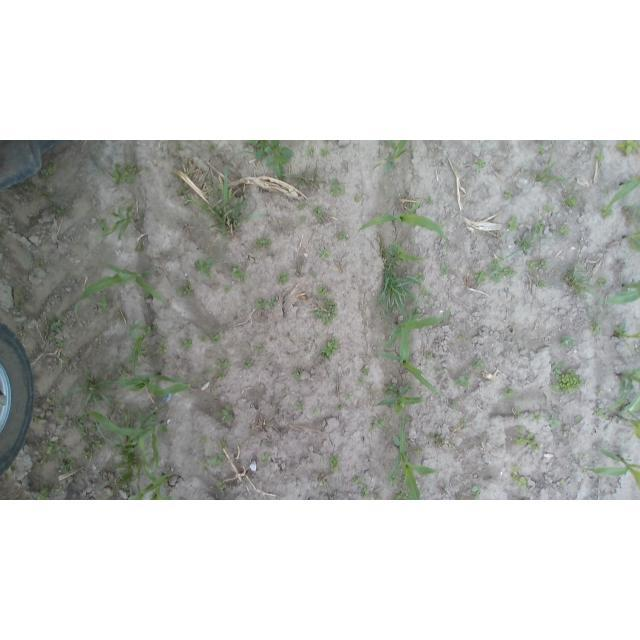Maize: (72, 261, 177, 319), (90, 405, 170, 470), (378, 316, 442, 397), (357, 202, 451, 245), (389, 417, 436, 500), (378, 306, 454, 348), (578, 444, 640, 494), (97, 370, 194, 399), (91, 201, 146, 244), (123, 463, 180, 500), (377, 384, 423, 417), (371, 140, 411, 172), (613, 371, 640, 414), (606, 278, 640, 311), (607, 176, 640, 208), (612, 403, 640, 437), (612, 325, 640, 355), (389, 240, 423, 263), (621, 215, 640, 255)
Weeds: (180, 165, 265, 234), (379, 242, 428, 319), (108, 436, 143, 498), (530, 140, 571, 192), (249, 140, 295, 180), (71, 372, 114, 414), (122, 322, 156, 369), (549, 363, 583, 394), (562, 268, 593, 299), (289, 162, 323, 190), (119, 406, 163, 426), (486, 258, 518, 283), (57, 446, 80, 478), (210, 355, 234, 383), (111, 163, 138, 186), (77, 411, 100, 438), (321, 297, 341, 327), (199, 452, 228, 472), (516, 430, 541, 453), (512, 237, 544, 254), (48, 314, 71, 336), (193, 257, 217, 278), (213, 404, 237, 425), (41, 439, 59, 466), (322, 337, 343, 359), (173, 178, 192, 202), (50, 397, 67, 423), (616, 140, 640, 157), (177, 281, 197, 299), (204, 328, 225, 345), (251, 235, 273, 251), (469, 158, 490, 174), (510, 472, 531, 488), (330, 176, 345, 198), (502, 187, 520, 205), (25, 253, 45, 269), (432, 433, 452, 449), (231, 267, 250, 283), (559, 334, 575, 352), (312, 204, 328, 222), (328, 452, 341, 474), (588, 317, 603, 336), (97, 294, 110, 315), (456, 373, 473, 389), (392, 488, 412, 501), (468, 484, 484, 500), (55, 204, 74, 217), (472, 270, 487, 286), (370, 415, 386, 430), (275, 270, 292, 284), (30, 414, 47, 428), (291, 369, 306, 384), (216, 478, 231, 493), (91, 439, 106, 454), (510, 405, 526, 419), (439, 262, 452, 279), (423, 196, 440, 209), (317, 246, 332, 260), (240, 359, 256, 372), (36, 487, 52, 500), (251, 343, 267, 356), (177, 337, 195, 348), (592, 149, 606, 163), (315, 285, 329, 299), (507, 216, 519, 232), (39, 165, 55, 177), (502, 387, 515, 401), (564, 196, 579, 208), (600, 205, 612, 220), (556, 223, 568, 238), (293, 400, 308, 412), (260, 452, 275, 464), (55, 484, 66, 500), (470, 356, 483, 369), (304, 145, 316, 159), (347, 472, 361, 484), (55, 339, 69, 351), (160, 331, 171, 346), (55, 355, 71, 365), (360, 482, 370, 498), (538, 258, 550, 271), (319, 146, 332, 158), (45, 192, 58, 204), (156, 346, 169, 358), (549, 415, 560, 429), (203, 142, 219, 151), (255, 298, 267, 310), (527, 260, 538, 273), (537, 144, 548, 157), (415, 272, 426, 285), (352, 192, 363, 205), (413, 447, 426, 458), (199, 436, 213, 446), (459, 329, 470, 341), (312, 308, 324, 319), (79, 449, 90, 461), (338, 229, 347, 243), (509, 462, 520, 473), (360, 366, 371, 377), (537, 280, 547, 292), (389, 476, 404, 484), (309, 405, 321, 415), (218, 441, 230, 451), (593, 409, 606, 418), (537, 221, 546, 234), (298, 200, 307, 213), (543, 203, 554, 213), (595, 386, 605, 397), (135, 243, 145, 254), (269, 299, 279, 310), (459, 419, 470, 429), (594, 278, 606, 287), (99, 218, 108, 230), (433, 366, 444, 375), (424, 353, 435, 362), (313, 331, 322, 342), (371, 491, 382, 500), (563, 424, 570, 438), (573, 414, 585, 422), (577, 453, 586, 463), (336, 404, 345, 414), (450, 401, 459, 411), (535, 412, 546, 420), (403, 381, 414, 389), (357, 380, 368, 388), (222, 285, 230, 294), (308, 270, 316, 279), (9, 464, 16, 474), (559, 478, 566, 487), (388, 383, 397, 390), (344, 393, 351, 401)
